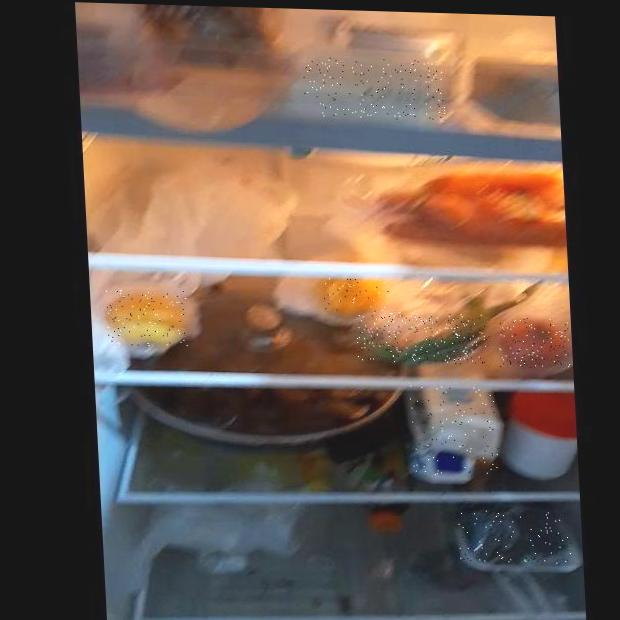broccoli: (458, 508, 573, 565)
cheese: (303, 57, 446, 121)
green chilies: (356, 311, 488, 365)
lemon: (105, 289, 189, 347), (320, 278, 392, 314)
milk: (409, 386, 502, 477)
tomato: (498, 316, 570, 369)
